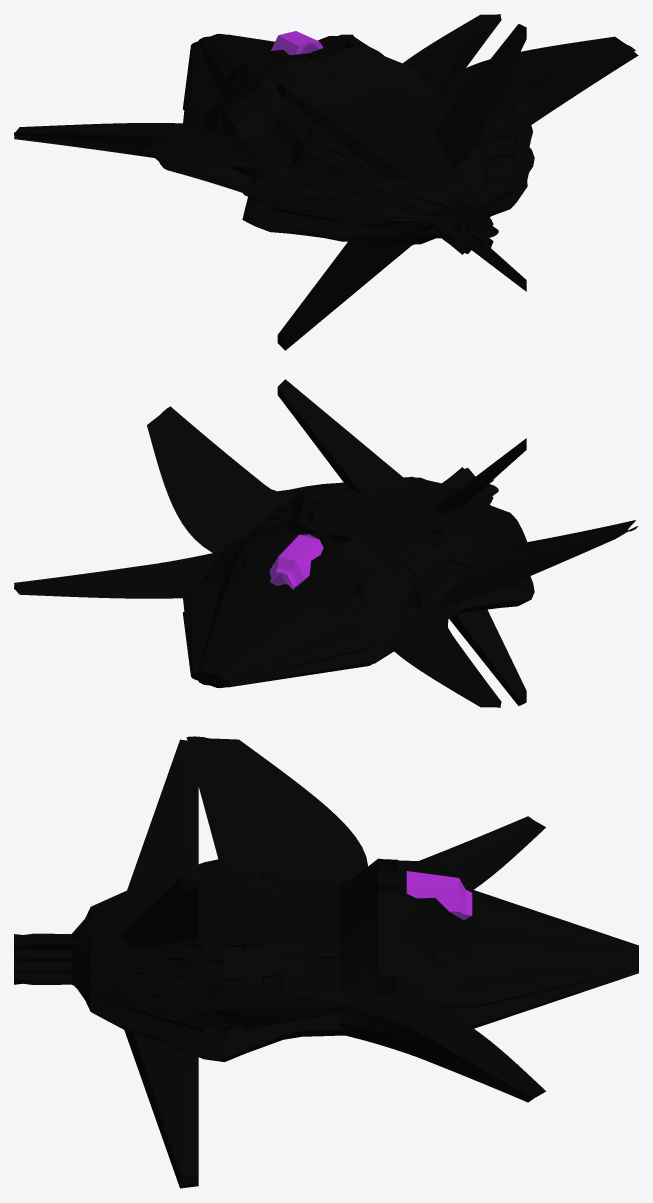
The picture shows the model from 3 angles, top to bottom: view 1: azimuth 30°, elevation 25°; view 2: azimuth 150°, elevation 25°; view 3: azimuth 270°, elevation 25°; orthographic projection. The views are drawn at different scales.
Visible parts, largest first — view 1: Ship1; view 2: Ship1; view 3: Ship1.
Boxes of the visible parts, x1=… form: Ship1: x1=14, y1=14, x2=638, y2=350; Ship1: x1=14, y1=379, x2=638, y2=707; Ship1: x1=14, y1=736, x2=638, y2=1188.
Size of the model in its own units: 11.5 by 5.96 by 10.87.
5 materials, 4 textured.
